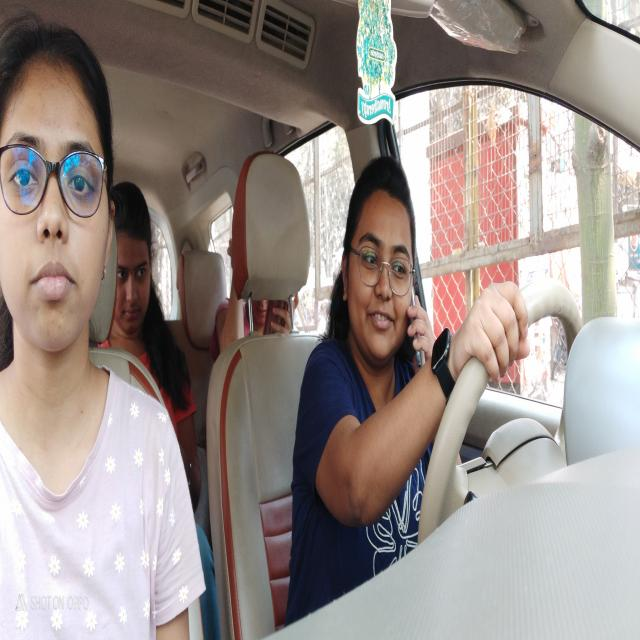mobile: (405, 285, 427, 375)
person: (1, 14, 125, 392), (337, 144, 428, 392), (109, 159, 162, 346)
